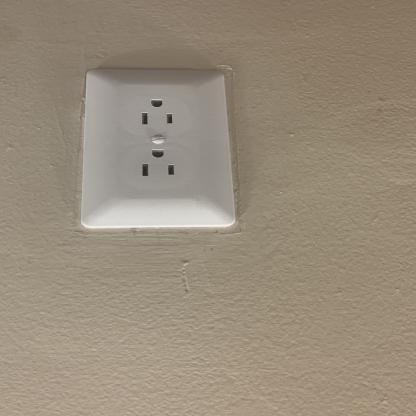OUTLET: (78, 66, 238, 231)
